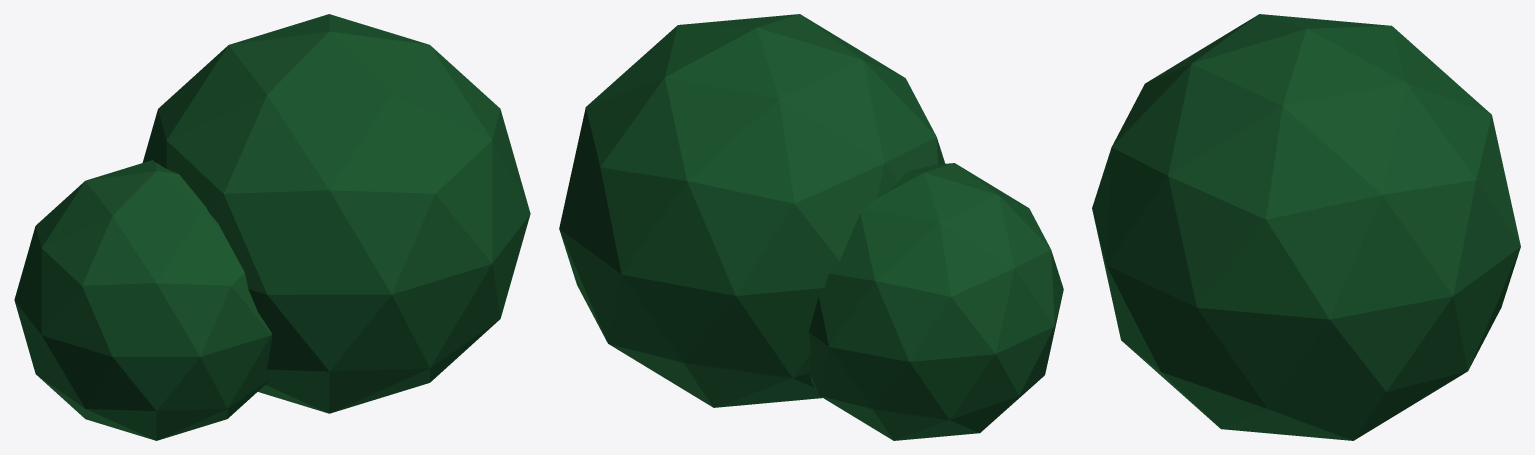
Rendered from Bush.fbx.
3 renders of one model, left to right at view 1: azimuth 30°, elevation 25°; view 2: azimuth 150°, elevation 25°; view 3: azimuth 270°, elevation 25°, orthographic. The views are drawn at different scales.
Parts seen in each view (by area): view 1: Bush; view 2: Bush; view 3: Bush.
Boxes of the visible parts, x1,y1,x2,y2 form: Bush: (14,14,530,440); Bush: (559,14,1063,440); Bush: (1092,14,1520,440).
Size of the model in its own units: 75.66 by 56.68 by 55.45.
